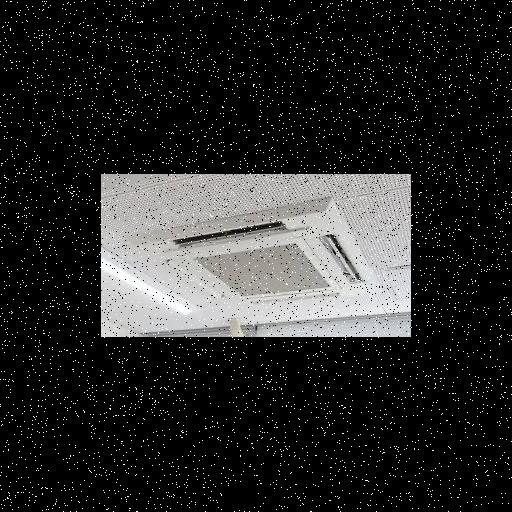4-way-ac: (131, 200, 382, 310)
